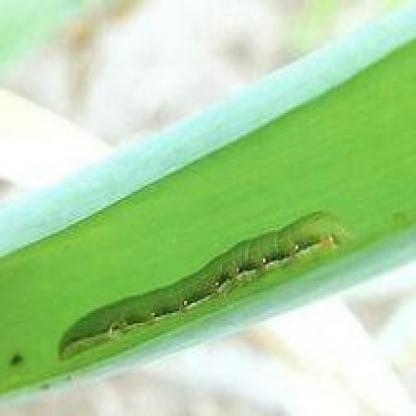armyworm: (41, 184, 371, 387)
